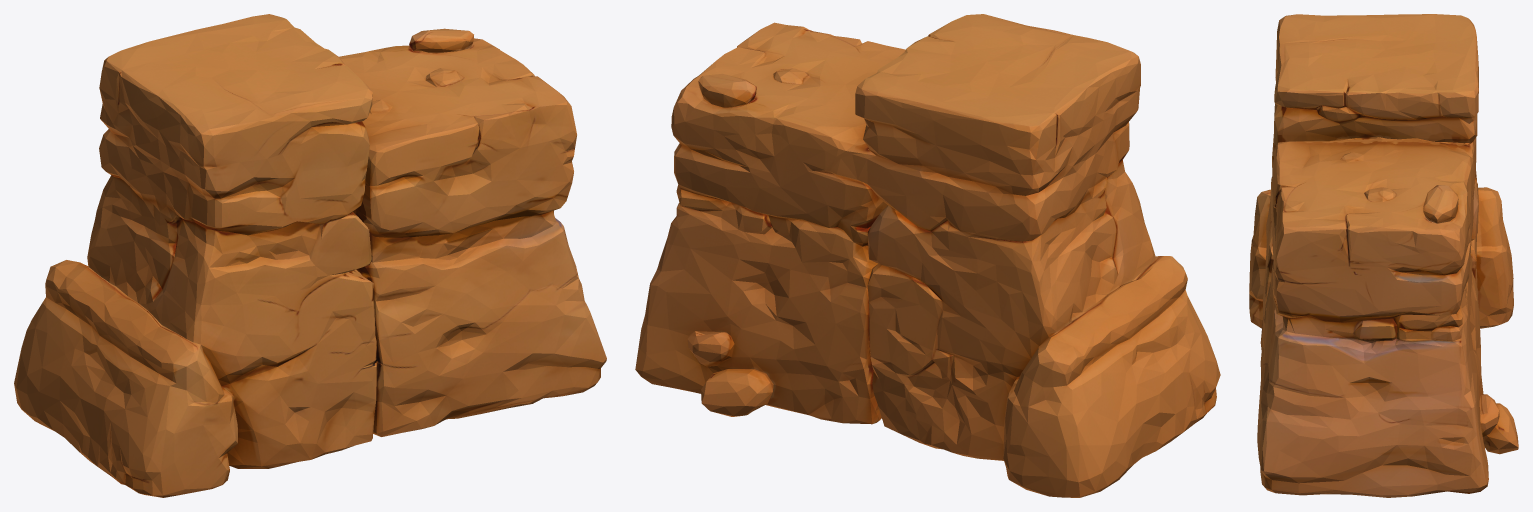
3 views of the same model, side by side, from view 1: azimuth 30°, elevation 25°; view 2: azimuth 150°, elevation 25°; view 3: azimuth 270°, elevation 25° (orthographic). The views are drawn at different scales.
Visible parts, largest first — view 1: 2_1234_30_5.0_384_8000.obj; view 2: 2_1234_30_5.0_384_8000.obj; view 3: 2_1234_30_5.0_384_8000.obj.
Boxes of the visible parts, bbox=[...] form: 2_1234_30_5.0_384_8000.obj: bbox=[14, 14, 606, 497]; 2_1234_30_5.0_384_8000.obj: bbox=[635, 14, 1220, 497]; 2_1234_30_5.0_384_8000.obj: bbox=[1249, 14, 1518, 497].
Size of the model in its own units: 2 by 1.4 by 1.08.
1 material, 1 textured.
